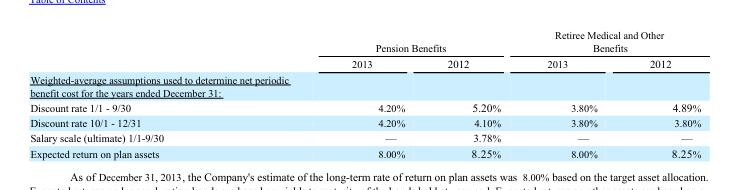table: (29, 28, 700, 159)
table column: (29, 28, 257, 159), (257, 28, 425, 159), (523, 28, 622, 159), (425, 28, 523, 159), (622, 28, 700, 159)
table column header: (29, 28, 700, 71)
table projected row header: (29, 71, 700, 99)
table row: (29, 71, 700, 99), (29, 28, 700, 55), (29, 55, 700, 71), (29, 99, 700, 115), (29, 129, 700, 145), (29, 115, 700, 129), (29, 145, 700, 159)
table spanning cell: (257, 28, 523, 55), (523, 28, 700, 55)
